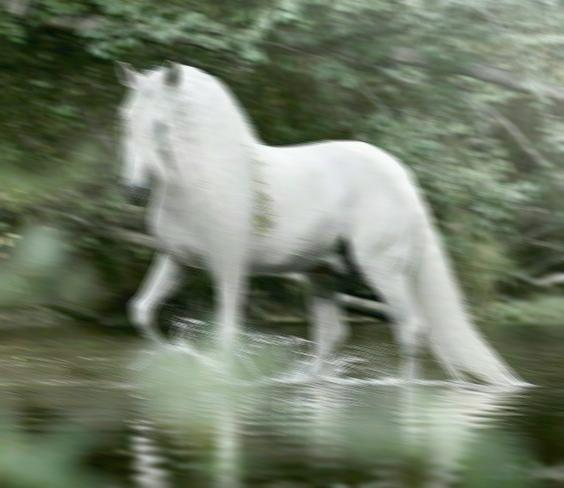horse: (116, 58, 538, 387)
